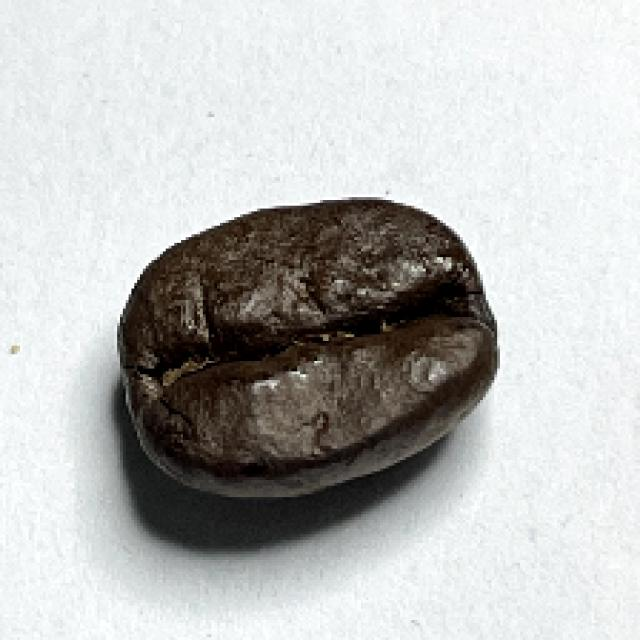bean: (116, 198, 500, 499)
